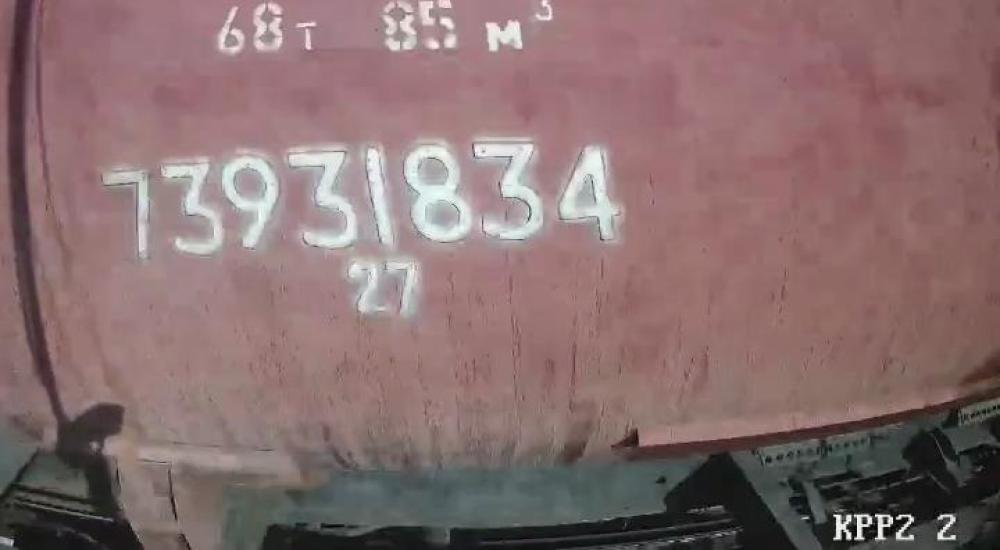Wagon-number: (98, 135, 625, 265)
